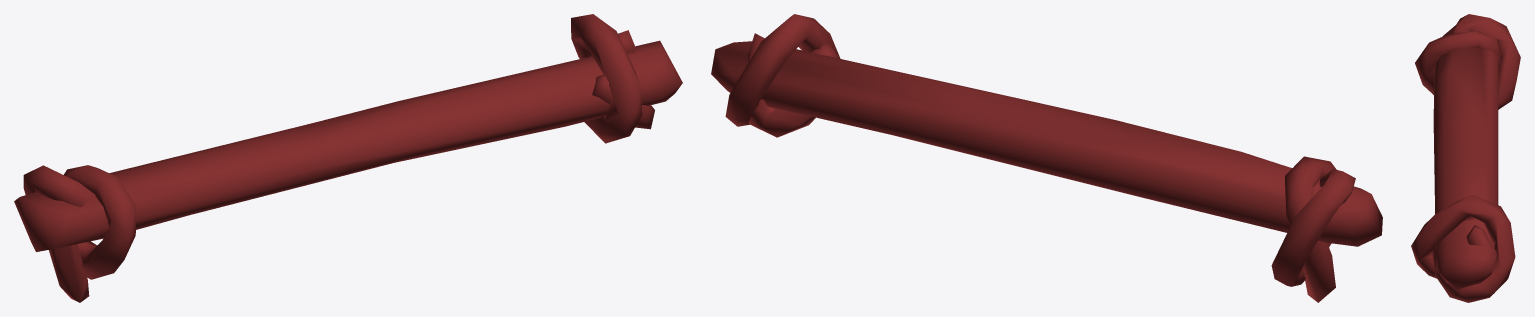
The model's file is SM_step_plank_rope_02.fbx.
The picture shows the model from 3 angles, left to right: view 1: azimuth 30°, elevation 25°; view 2: azimuth 150°, elevation 25°; view 3: azimuth 270°, elevation 25°; orthographic projection. The views are drawn at different scales.
Parts seen in each view (by area): view 1: step_plank_rope_02; view 2: step_plank_rope_02; view 3: step_plank_rope_02.
Part boxes in pixels (x1,y1,x2,y2): step_plank_rope_02: (14,14,682,302); step_plank_rope_02: (711,14,1382,302); step_plank_rope_02: (1411,14,1520,302).
Bounding box in the file's own units: 137 × 32.38 × 26.89.
